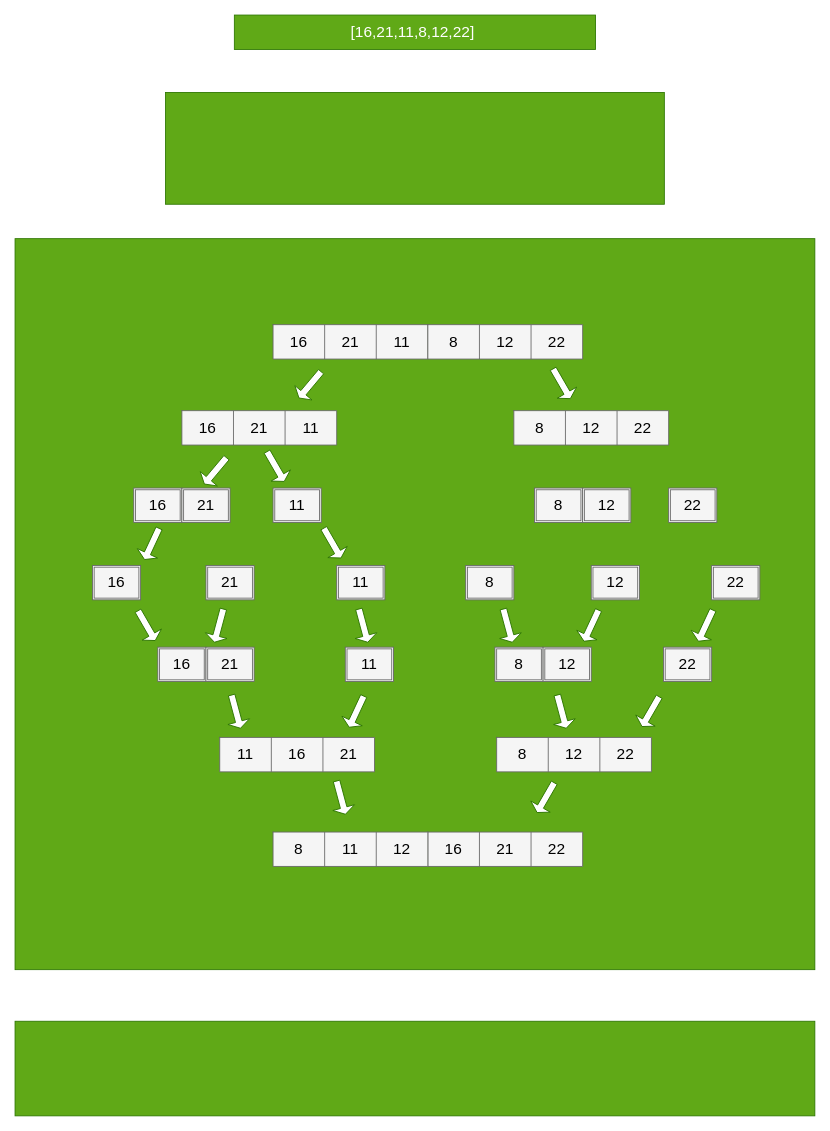
Some shapes in this 830 by 1131 pixel diagram are drawn without their labels. The shapes that lost their labels are listed below. From the top down, each one's box as (x1, y1, x2, y2) in pixels, then its label:
(165, 92, 664, 204): 1- Yukarıdaki dizinin Merge Sort türüne göre aşamalarını yazınız
(14, 1020, 815, 1116): 2- Big O Gösterimini yapınız. O(n*logn)
